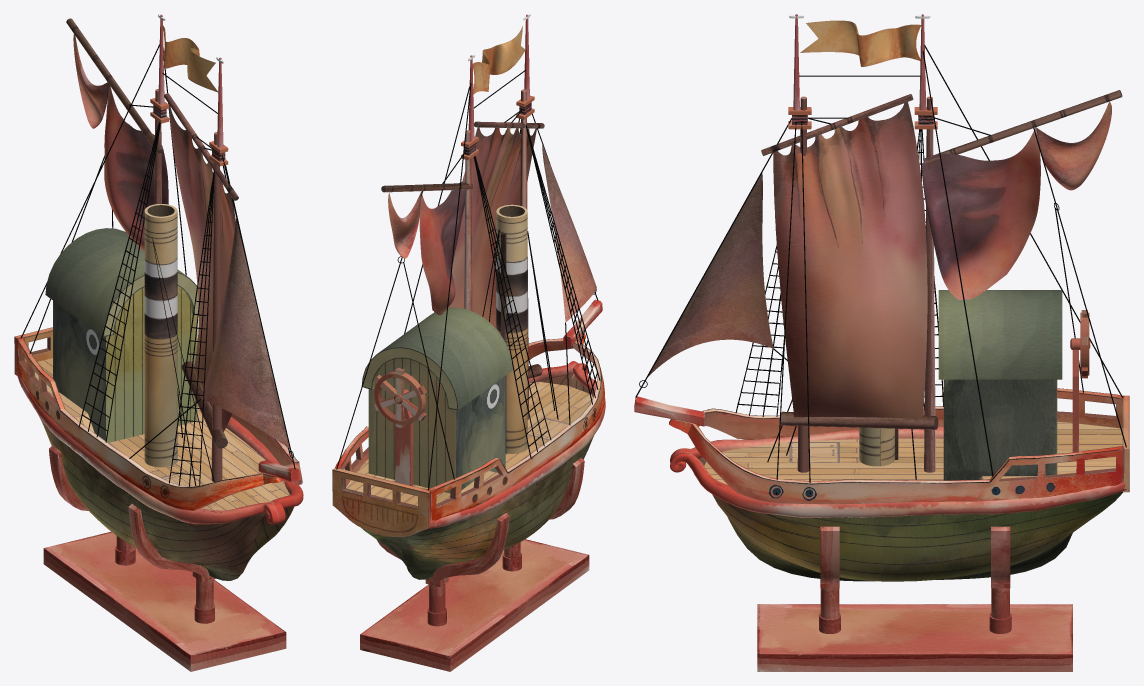
File: boat-transformed.glb
The picture shows the model from 3 angles, left to right: view 1: azimuth 30°, elevation 25°; view 2: azimuth 150°, elevation 25°; view 3: azimuth 270°, elevation 25°; orthographic projection. The views are drawn at different scales.
Visible parts, largest first — view 1: object 9, object 5, object 7, object 13, object 28, object 8, object 11, object 12, object 15, object 10, object 6, Plane.001 (+5 smaller); view 2: object 9, object 5, object 8, object 7, object 12, object 13, object 11, object 15, object 10, object 28, Cube.006, object 6 (+5 smaller); view 3: object 12, object 5, object 9, object 7, object 8, object 15, object 11, object 28, object 10, object 6, object 16, Cube.006 (+3 smaller).
Part boxes in pixels (x1,y1,x2,y2): object 9: (45, 228, 198, 442); object 5: (43, 445, 286, 671); object 7: (39, 417, 293, 580); object 13: (144, 204, 177, 467); object 28: (201, 219, 289, 448); object 8: (14, 327, 302, 510); object 11: (66, 14, 300, 482); object 12: (169, 104, 235, 431); object 15: (73, 34, 168, 251); object 10: (35, 358, 289, 510); object 6: (16, 370, 303, 524); Plane.001: (78, 122, 160, 442); object 9: (361, 307, 512, 493); object 5: (360, 458, 589, 671); object 8: (332, 332, 604, 536); object 7: (361, 372, 593, 579); object 12: (434, 127, 536, 328); object 13: (496, 204, 527, 453); object 11: (381, 14, 602, 419); object 15: (388, 181, 465, 315); object 10: (346, 381, 592, 505); object 28: (542, 144, 596, 322); Cube.006: (373, 368, 426, 486); object 6: (428, 361, 605, 528); object 12: (773, 102, 927, 418); object 5: (757, 526, 1072, 671); object 9: (938, 290, 1062, 480); object 7: (698, 439, 1122, 581); object 8: (669, 388, 1129, 504); object 15: (921, 101, 1111, 299); object 11: (634, 14, 1122, 472); object 28: (648, 173, 773, 376); object 10: (704, 421, 1122, 484); object 6: (670, 427, 1126, 517); object 16: (800, 20, 921, 66); Cube.006: (1070, 310, 1090, 452).
Bounding box in the file's own units: 3.11 × 11.78 × 8.36.
Materials: 14 (13 with a texture image).
